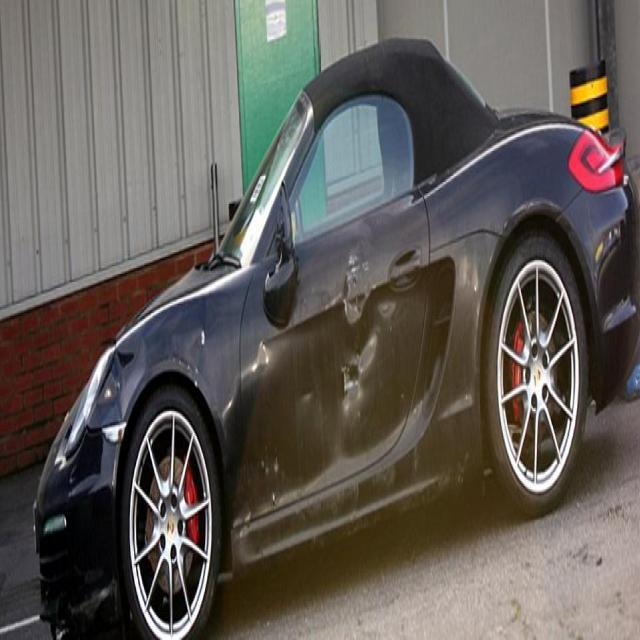dent: (326, 216, 378, 448)
